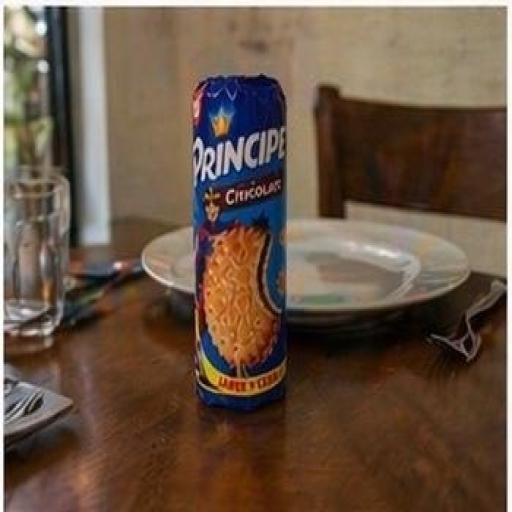prince: (134, 35, 348, 440)
